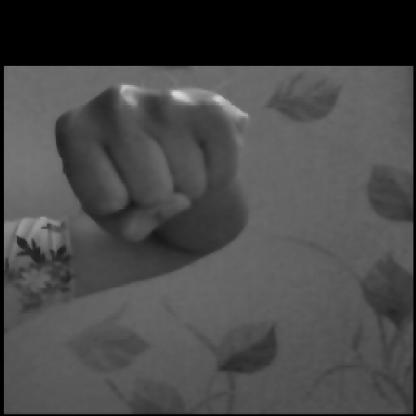fist: (38, 80, 273, 286)
